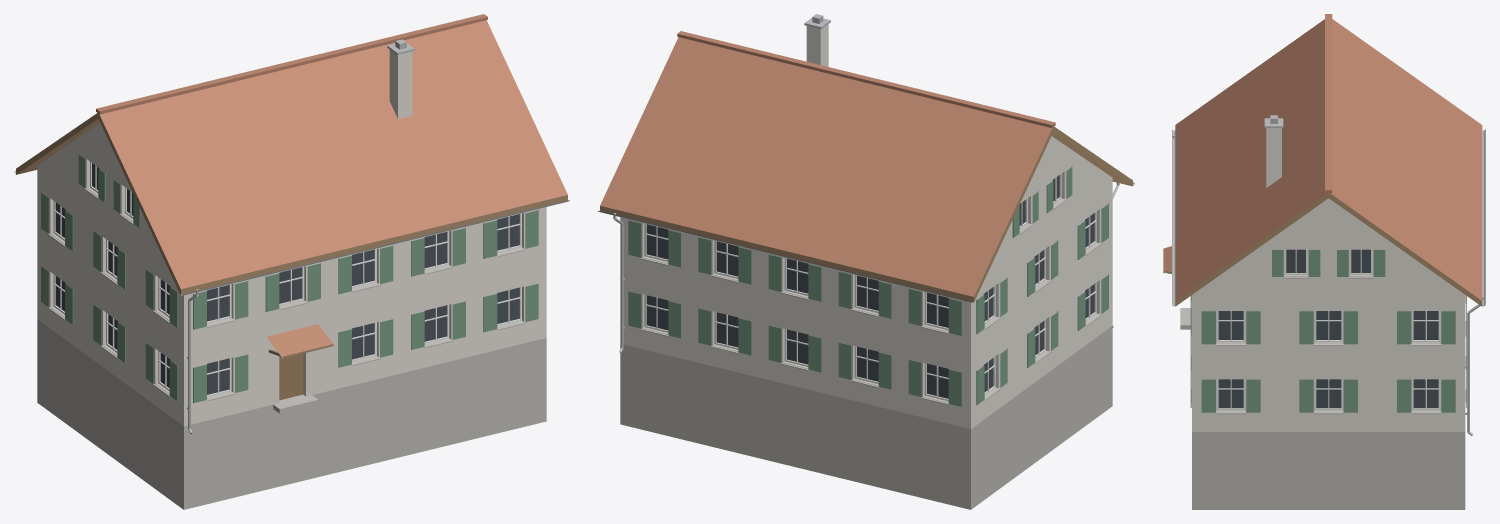
The model's file is house_gable_2_l.glb.
3 views of the same model, side by side, from view 1: azimuth 30°, elevation 25°; view 2: azimuth 150°, elevation 25°; view 3: azimuth 270°, elevation 25° (orthographic). The views are drawn at different scales.
Visible parts, largest first — view 1: house_gable_2_l; view 2: house_gable_2_l; view 3: house_gable_2_l.
Boxes of the visible parts, bbox=[...] form: house_gable_2_l: bbox=[14, 14, 569, 509]; house_gable_2_l: bbox=[598, 14, 1134, 509]; house_gable_2_l: bbox=[1163, 14, 1485, 509].
Bounding box in the file's own units: 16.04 × 14.7 × 12.38.
